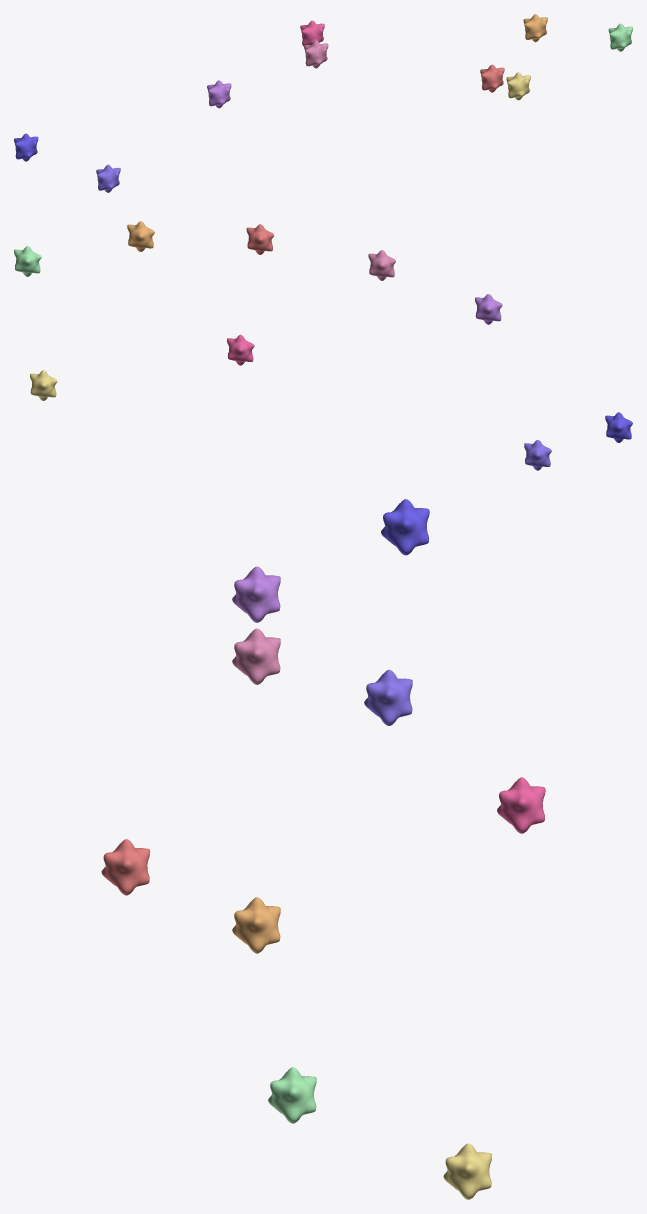
File: Stars.fbx
3 renders of one model, top to bottom at view 1: azimuth 30°, elevation 25°; view 2: azimuth 150°, elevation 25°; view 3: azimuth 270°, elevation 25°, orthographic. The views are drawn at different scales.
Parts seen in each view (by area): view 1: konpeito16, konpeito15, konpeito17, konpeito9, konpeito10, konpeito11, konpeito14, konpeito13, konpeito12; view 2: konpeito13, konpeito9, konpeito14, konpeito15, konpeito10, konpeito16, konpeito12, konpeito17, konpeito11; view 3: konpeito10, konpeito11, konpeito16, konpeito13, konpeito12, konpeito14, konpeito17, konpeito15, konpeito9.
Part boxes in pixels (x1=…): konpeito16: x1=506, y1=72, x2=530, y2=100; konpeito15: x1=523, y1=14, x2=547, y2=42; konpeito17: x1=608, y1=23, x2=632, y2=51; konpeito9: x1=14, y1=133, x2=38, y2=161; konpeito10: x1=96, y1=164, x2=120, y2=192; konpeito11: x1=207, y1=80, x2=231, y2=108; konpeito14: x1=480, y1=64, x2=504, y2=92; konpeito13: x1=304, y1=40, x2=328, y2=68; konpeito12: x1=300, y1=20, x2=324, y2=46; konpeito13: x1=368, y1=250, x2=395, y2=280; konpeito9: x1=605, y1=412, x2=632, y2=442; konpeito14: x1=246, y1=224, x2=274, y2=254; konpeito15: x1=127, y1=221, x2=154, y2=251; konpeito10: x1=524, y1=440, x2=551, y2=470; konpeito16: x1=30, y1=370, x2=57, y2=400; konpeito12: x1=227, y1=334, x2=254, y2=365; konpeito17: x1=14, y1=246, x2=41, y2=276; konpeito11: x1=475, y1=294, x2=502, y2=324; konpeito10: x1=364, y1=669, x2=412, y2=725; konpeito11: x1=232, y1=566, x2=280, y2=622; konpeito16: x1=443, y1=1143, x2=491, y2=1199; konpeito13: x1=232, y1=628, x2=280, y2=684; konpeito12: x1=497, y1=777, x2=545, y2=833; konpeito14: x1=101, y1=839, x2=149, y2=895; konpeito17: x1=268, y1=1067, x2=316, y2=1123; konpeito15: x1=232, y1=897, x2=280, y2=953; konpeito9: x1=381, y1=499, x2=429, y2=555.
Bounding box in the file's own units: 72.44 × 18.85 × 23.59.
